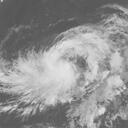cyclone: (15, 25, 110, 104)
